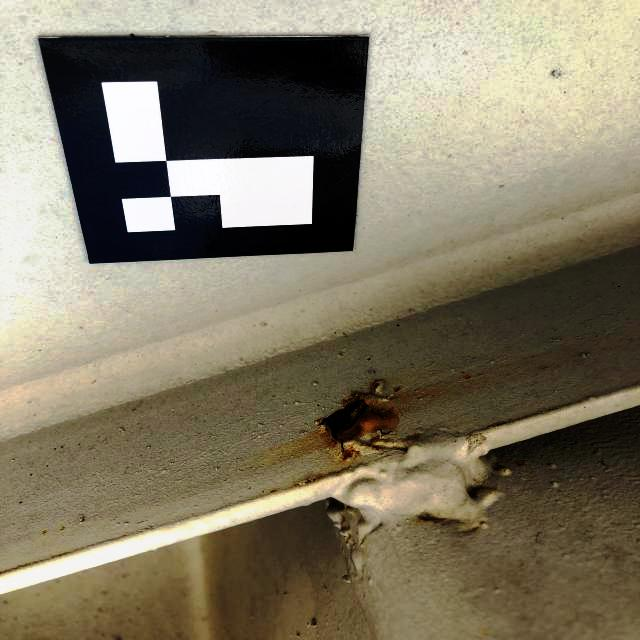Corrosion: (319, 393, 398, 463)
